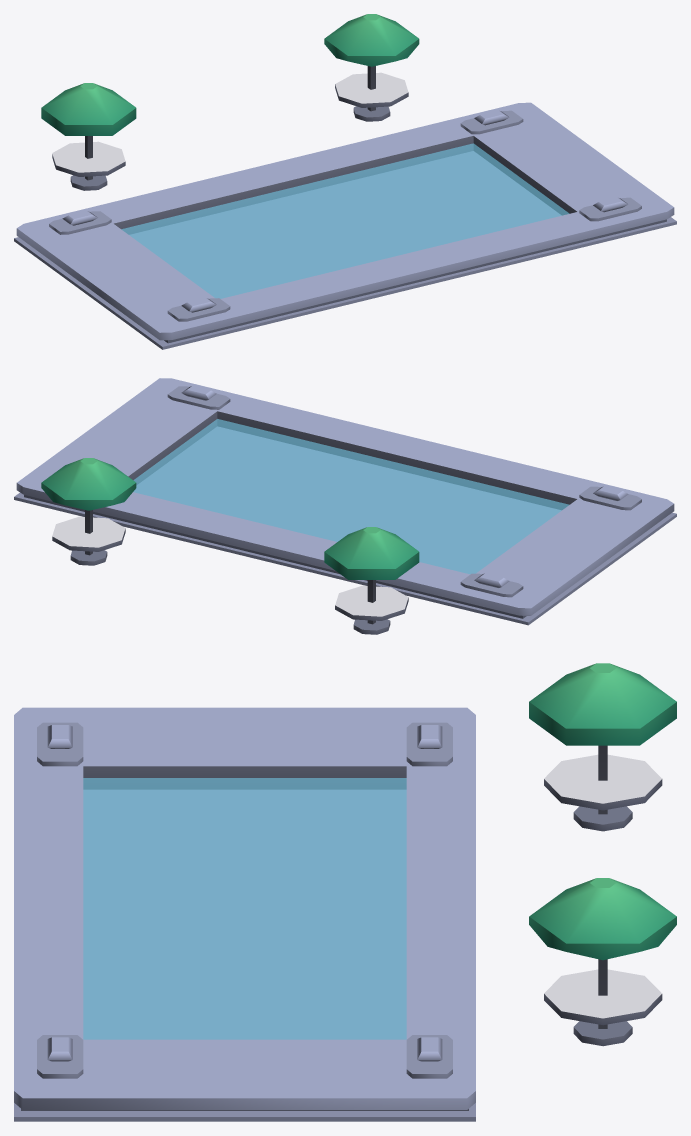
Rendered from swimming-pool.glb.
The picture shows the model from 3 angles, top to bottom: view 1: azimuth 30°, elevation 25°; view 2: azimuth 150°, elevation 25°; view 3: azimuth 270°, elevation 25°; orthographic projection. The views are drawn at different scales.
Visible parts, largest first — view 1: fountain-square, (%ignore), detail-parasol-a, detail-parasol-b; view 2: fountain-square, (%ignore), detail-parasol-a, detail-parasol-b; view 3: fountain-square, (%ignore), detail-parasol-a, detail-parasol-b.
Boxes of the visible parts, x1,y1,x2,y2 form: fountain-square: (14, 102, 676, 349); (%ignore): (121, 143, 569, 298); detail-parasol-a: (41, 83, 136, 190); detail-parasol-b: (324, 14, 419, 121); fountain-square: (14, 378, 676, 625); (%ignore): (133, 419, 568, 574); detail-parasol-a: (324, 527, 419, 634); detail-parasol-b: (41, 458, 136, 565); fountain-square: (14, 707, 475, 1121); (%ignore): (83, 778, 406, 1039); detail-parasol-a: (529, 663, 676, 831); detail-parasol-b: (529, 878, 676, 1046).
Bounding box in the file's own units: 4 × 0.72 × 2.87.
4 materials, 3 textured.
